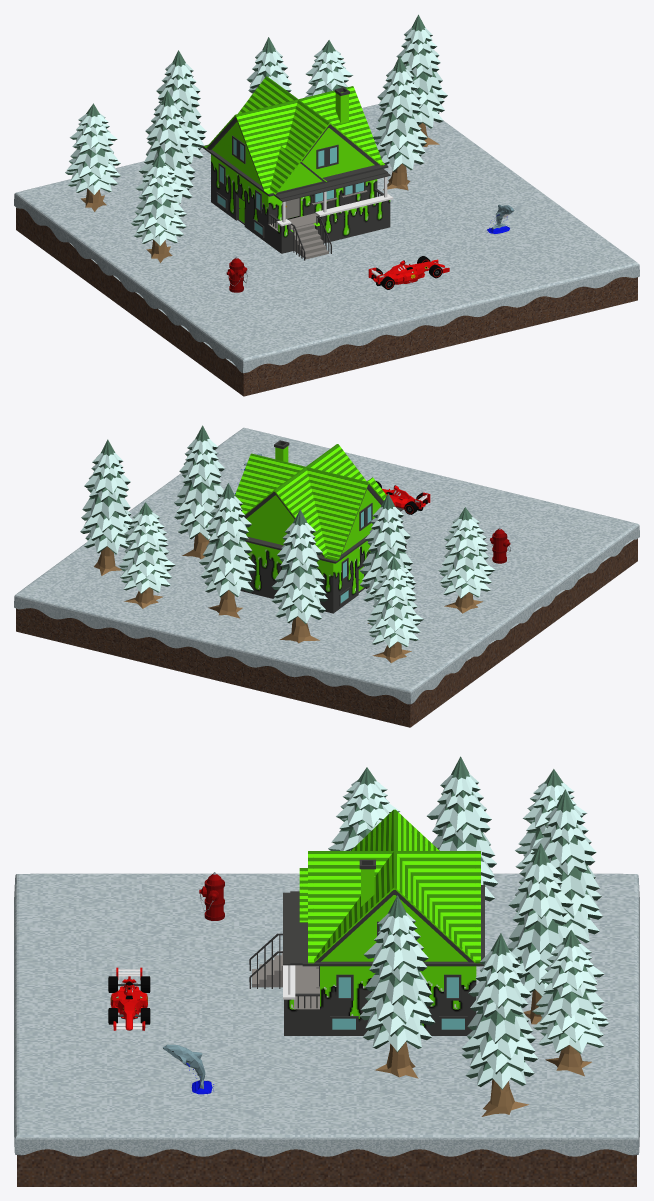
3 views of the same model, one above another, from view 1: azimuth 30°, elevation 25°; view 2: azimuth 150°, elevation 25°; view 3: azimuth 270°, elevation 25° (orthographic). The views are drawn at different scales.
Visible parts, largest first — view 1: Cube.003, Cube.754, VEHICLES_FORMULA_1, OBJRANDOM_FIRE_HYDRANT; view 2: Cube.003, Cube.754, VEHICLES_FORMULA_1, OBJRANDOM_FIRE_HYDRANT; view 3: Cube.003, Cube.754, VEHICLES_FORMULA_1, OBJRANDOM_FIRE_HYDRANT, ANIMAL_DELFIN.
Boxes of the visible parts, <box> form: Cube.003: <box>14,14,639,396</box>; Cube.754: <box>202,76,393,260</box>; VEHICLES_FORMULA_1: <box>368,256,449,289</box>; OBJRANDOM_FIRE_HYDRANT: <box>226,256,247,292</box>; Cube.003: <box>14,425,639,727</box>; Cube.754: <box>235,440,406,613</box>; VEHICLES_FORMULA_1: <box>376,481,430,514</box>; OBJRANDOM_FIRE_HYDRANT: <box>490,527,510,563</box>; Cube.003: <box>14,756,639,1186</box>; Cube.754: <box>249,809,484,1035</box>; VEHICLES_FORMULA_1: <box>108,967,150,1030</box>; OBJRANDOM_FIRE_HYDRANT: <box>199,872,224,920</box>; ANIMAL_DELFIN: <box>163,1044,214,1094</box>.
Bounding box in the file's own units: 4040 × 1793 × 4040.
31 materials, 4 textured.
